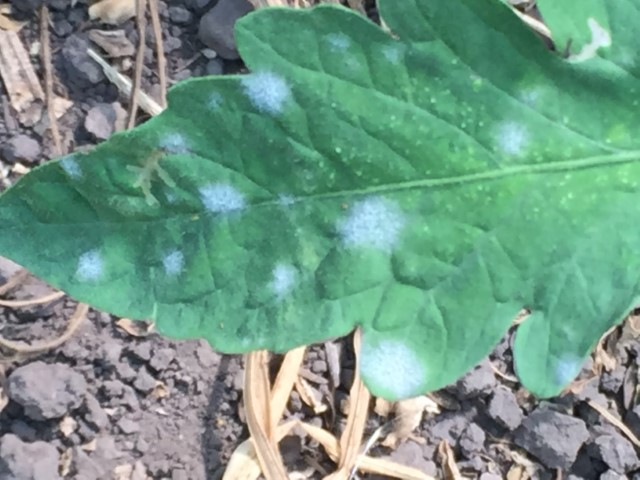oidio: (336, 194, 405, 252), (363, 339, 426, 397), (237, 73, 291, 114), (197, 181, 246, 215), (493, 118, 529, 158), (267, 259, 300, 301), (74, 247, 105, 283), (158, 130, 191, 155), (553, 354, 580, 384), (163, 251, 185, 278), (324, 32, 352, 50), (519, 85, 543, 105), (60, 155, 81, 177), (204, 89, 223, 113), (379, 43, 399, 64), (276, 191, 296, 205), (346, 56, 361, 70)
